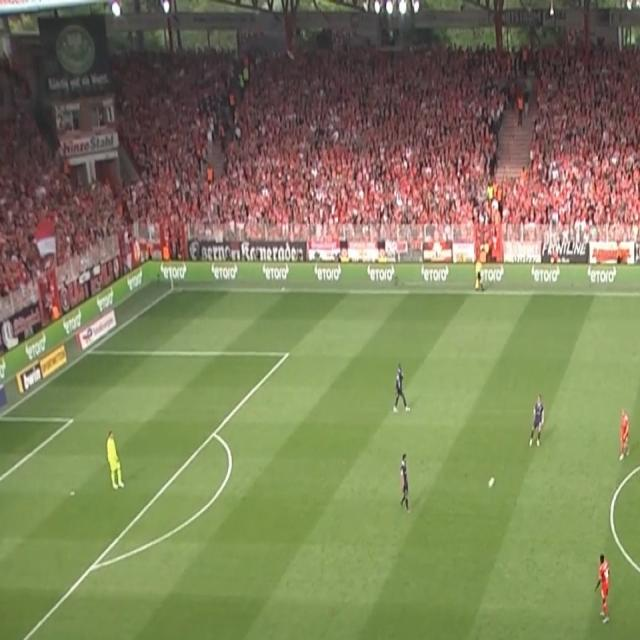ball: (487, 476, 495, 491)
